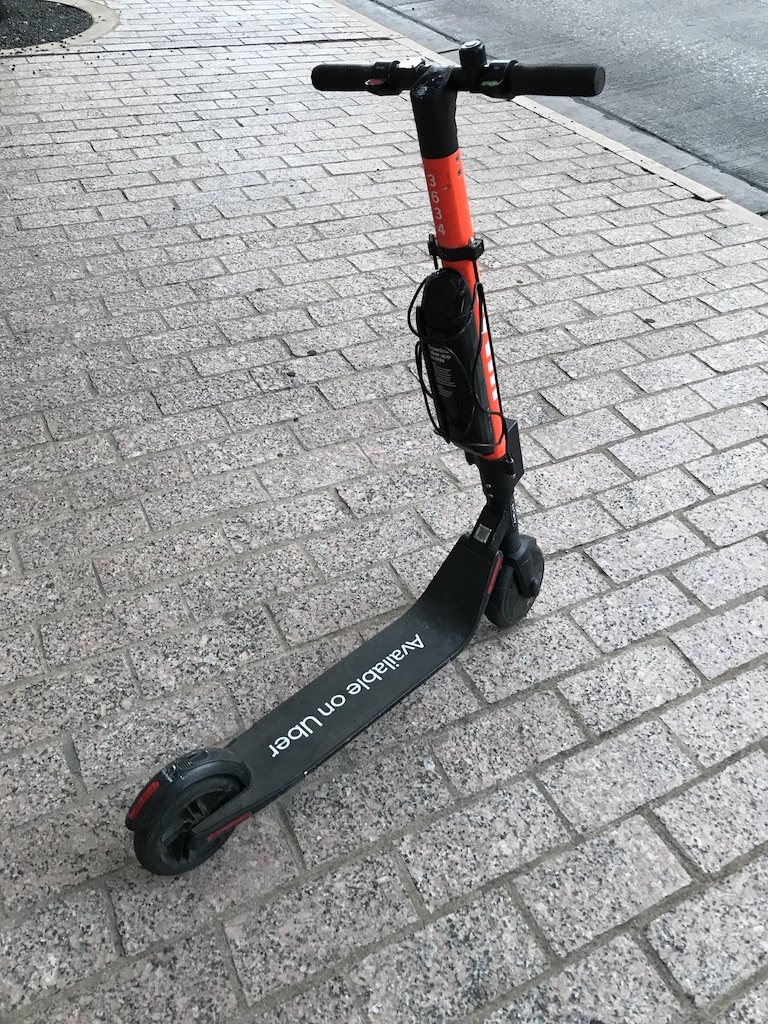scooter: (126, 39, 607, 876)
